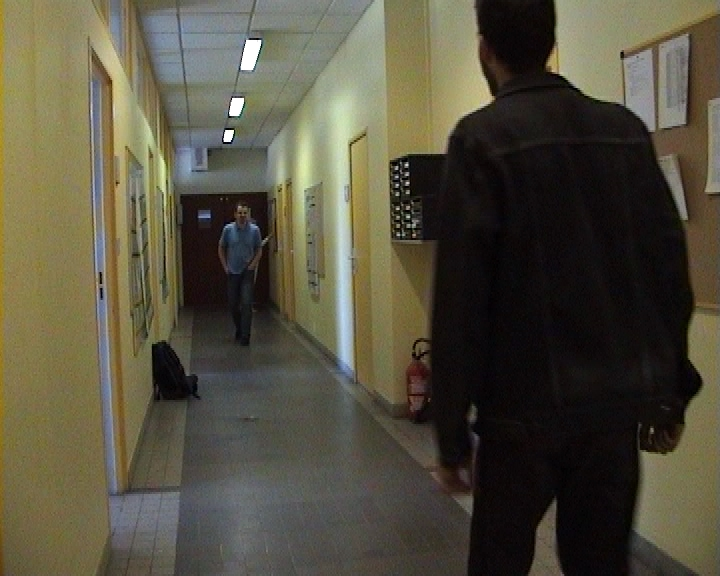leave bag unattended: (139, 325, 208, 420)
